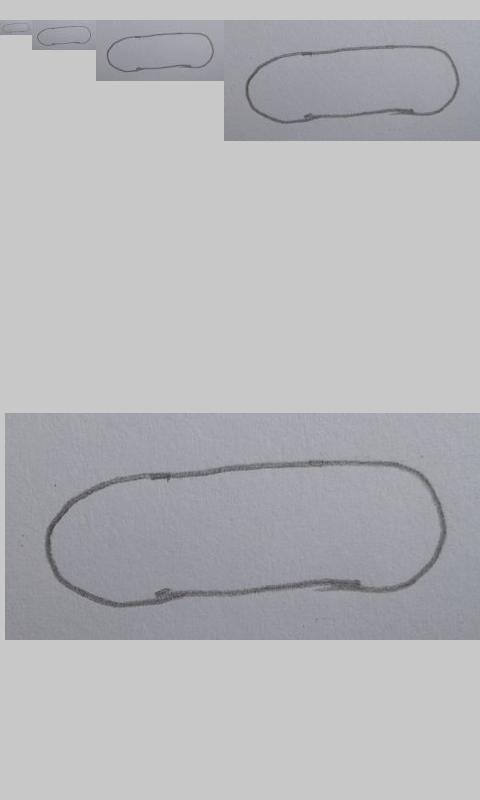chip: (45, 459, 449, 608), (244, 45, 461, 125), (106, 32, 215, 74), (37, 25, 92, 46), (2, 22, 31, 33)
